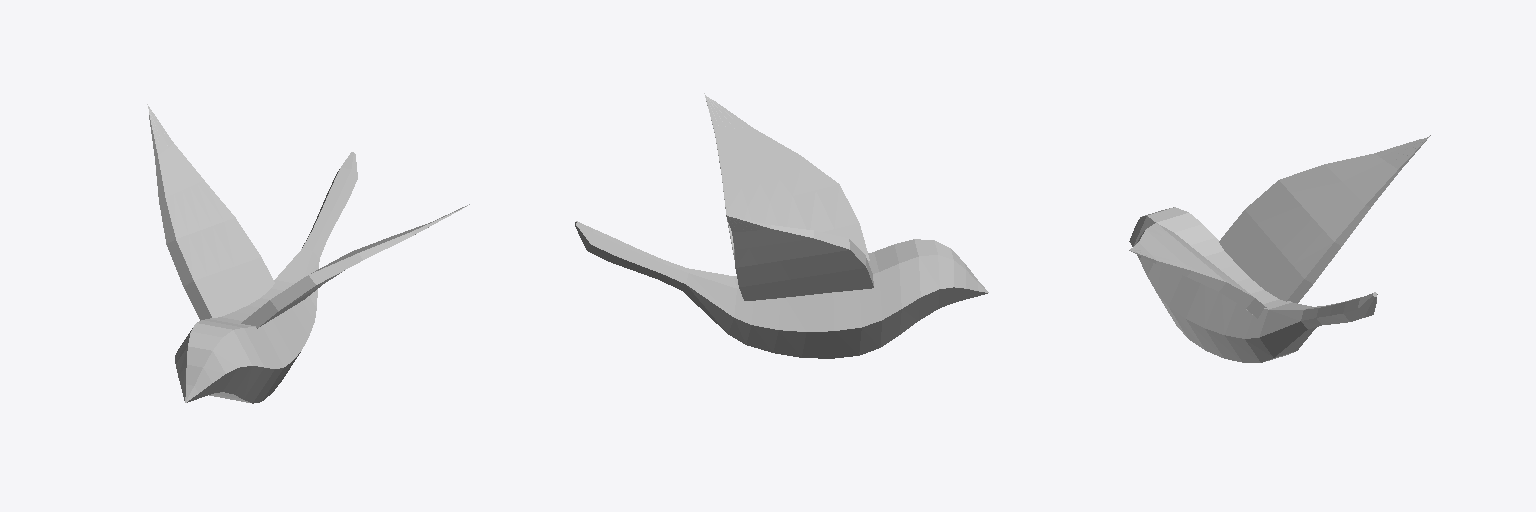
Rendered from _bird.obj.
The picture shows the model from 3 angles: view 1: azimuth 30°, elevation 25°; view 2: azimuth 150°, elevation 25°; view 3: azimuth 270°, elevation 25°; orthographic projection.
Visible parts, largest first — view 1: bird.001; view 2: bird.001; view 3: bird.001.
Part boxes in pixels (left/top/right/bottom): bird.001: left=147, top=104, right=469, bottom=403; bird.001: left=575, top=93, right=988, bottom=358; bird.001: left=1129, top=135, right=1430, bottom=362.
Bounding box in the file's own units: 1.86 × 1.28 × 1.67.